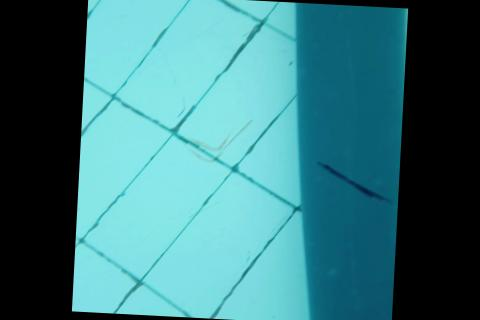keretakan: (313, 161, 396, 203)
